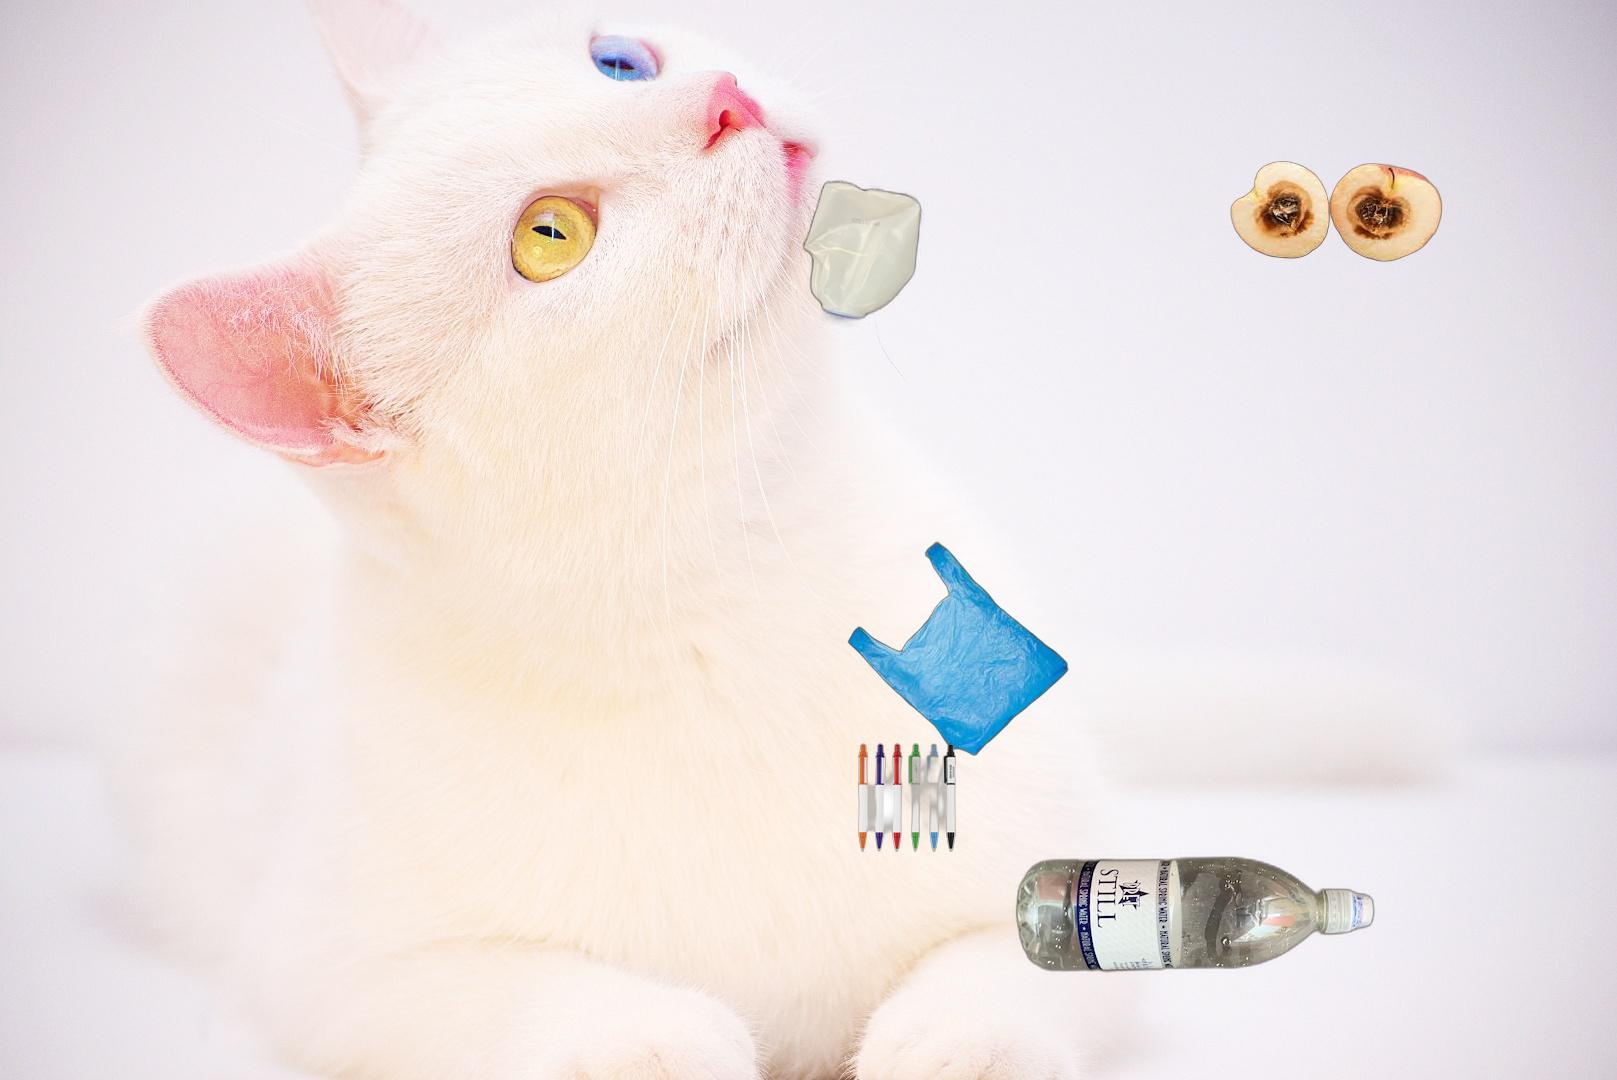biological: (1230, 159, 1443, 264)
penholder: (855, 741, 969, 855)
plastic-bag: (847, 540, 1069, 758)
plastic-bottles: (1013, 851, 1378, 978), (799, 176, 927, 330)
